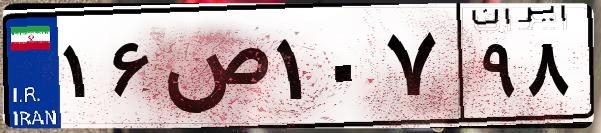0: (330, 28, 385, 110)
1: (270, 28, 330, 110), (57, 26, 110, 100)
6: (110, 28, 158, 98)
7: (385, 28, 445, 110)
8: (525, 38, 570, 115)
9: (475, 38, 525, 113)
ص: (158, 20, 270, 120)
